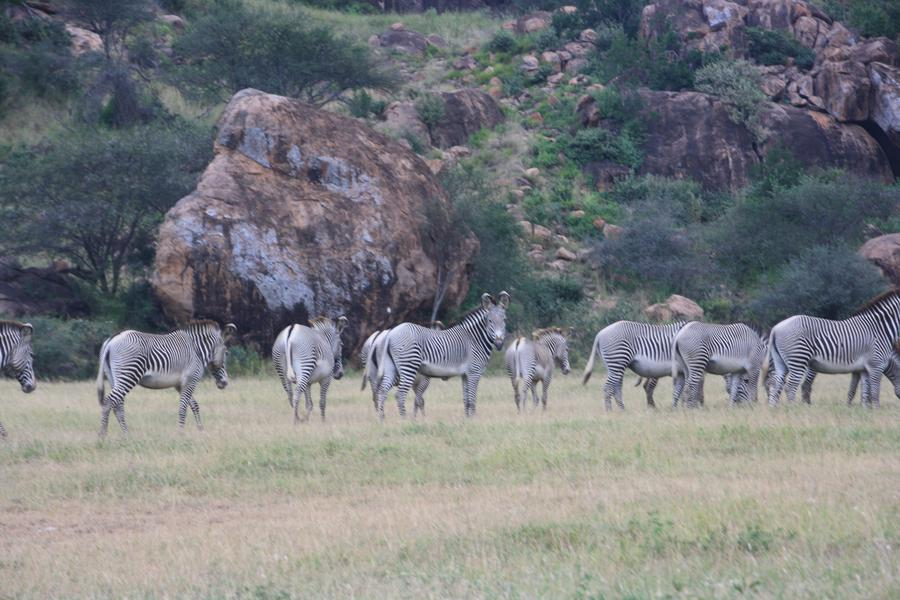zebra_grevys: (104, 331, 199, 381), (677, 317, 760, 369)
